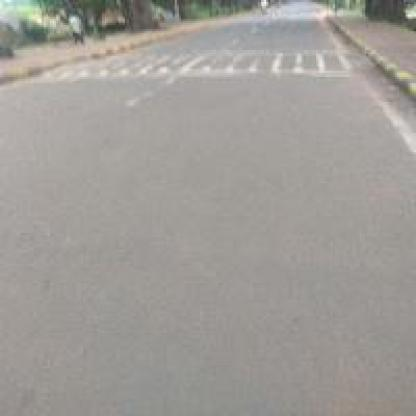Speed Bump: (27, 54, 362, 79)
